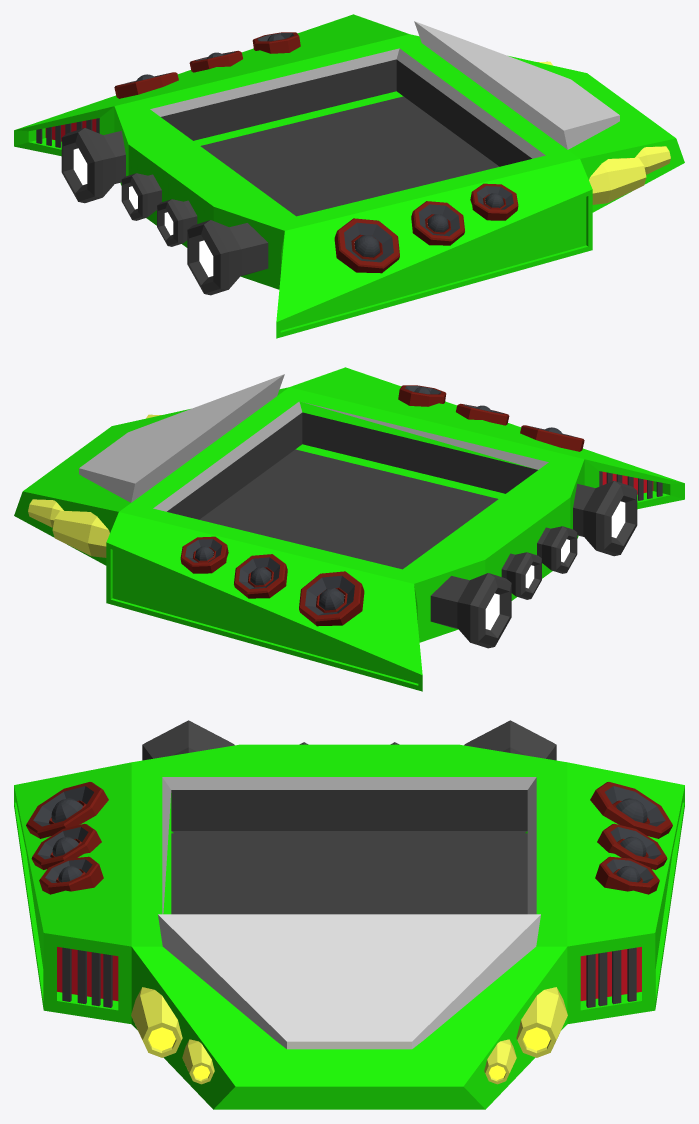
Rendered from Nave.glb.
3 renders of one model, top to bottom at view 1: azimuth 30°, elevation 25°; view 2: azimuth 150°, elevation 25°; view 3: azimuth 270°, elevation 25°, orthographic. The views are drawn at different scales.
Parts seen in each view (by area): view 1: Cube; view 2: Cube; view 3: Cube.
Boxes of the visible parts, bbox=[...] form: Cube: bbox=[14, 14, 684, 338]; Cube: bbox=[14, 367, 684, 691]; Cube: bbox=[14, 720, 684, 1109].
Bounding box in the file's own units: 11.65 × 2.04 × 10.72.
